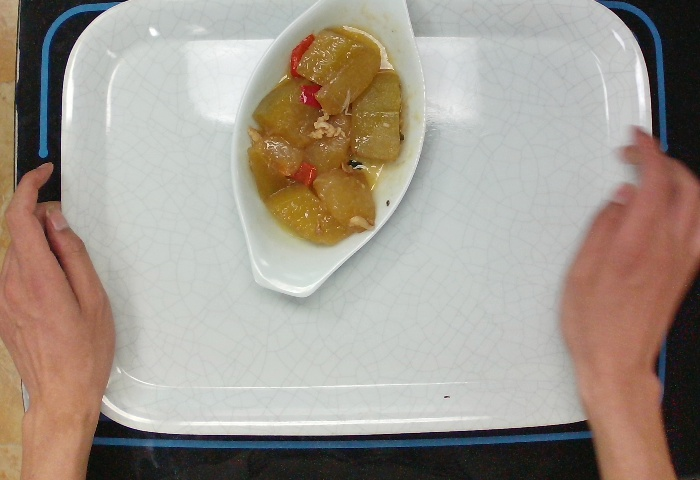JYsf-Yu_Pan: (226, 1, 430, 301)
